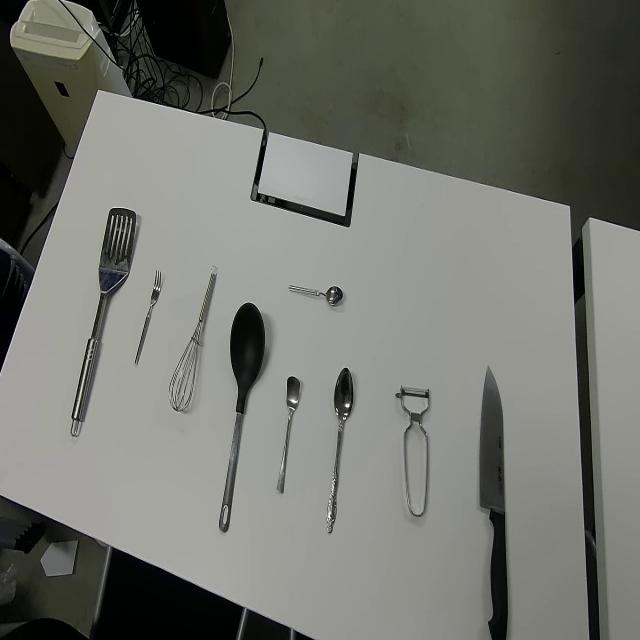Desert-Spoon: (325, 366, 354, 534)
Dinner-Fork: (134, 267, 162, 367)
Kitchen-Knife: (478, 362, 509, 640)
Peeler: (394, 382, 430, 518)
Serving-Spoon: (69, 206, 138, 440), (218, 300, 266, 536)
Tea-Spoon: (276, 375, 300, 495), (288, 282, 344, 306)
Whisk: (168, 262, 218, 413)
